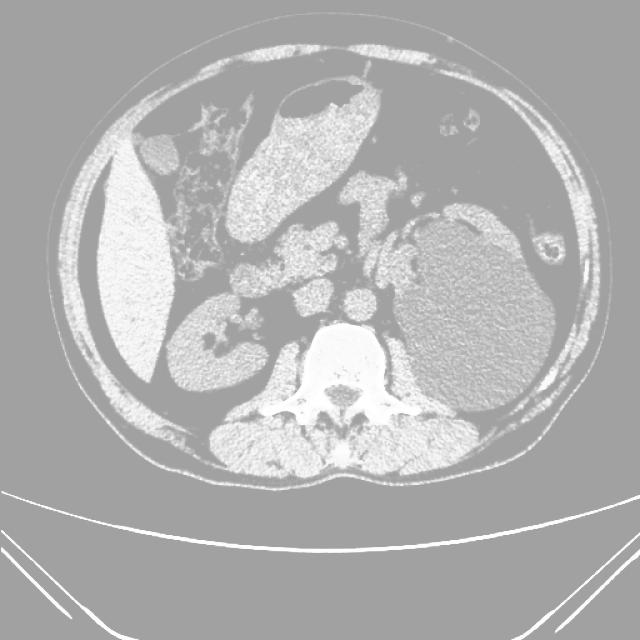cysts: (51, 35, 605, 489)
